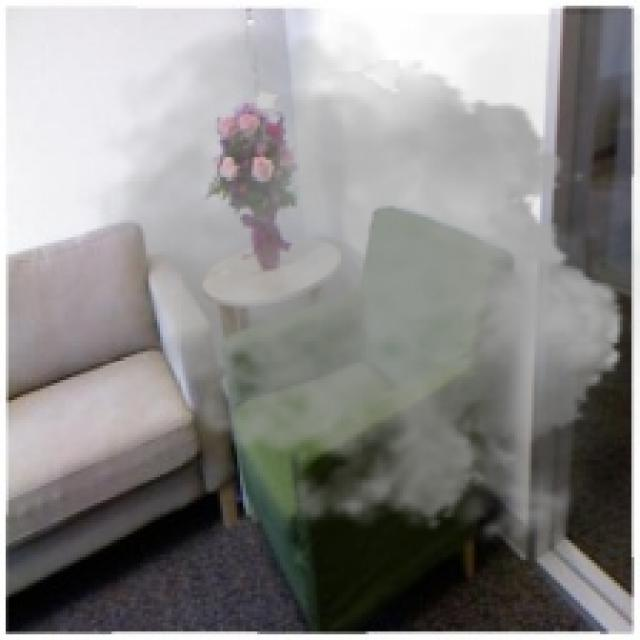smoke: (74, 14, 637, 563)
